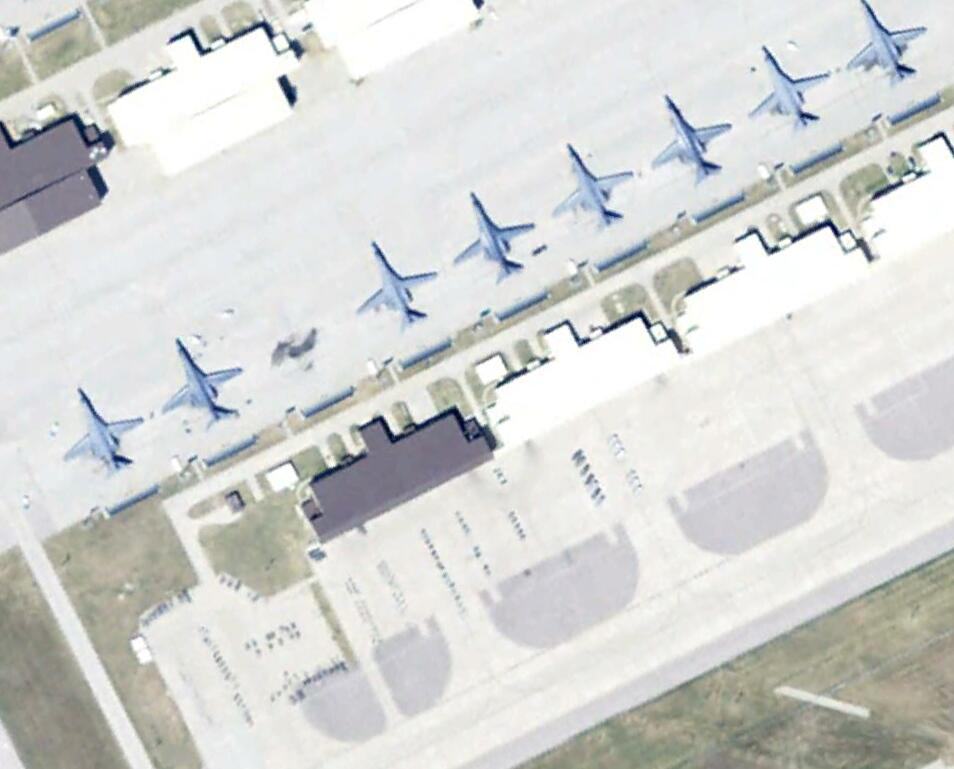A10: (156, 338, 249, 433), (58, 381, 148, 478), (353, 237, 442, 333), (451, 191, 540, 287), (547, 141, 637, 234), (647, 95, 737, 187), (746, 44, 833, 135), (844, 1, 930, 89)
